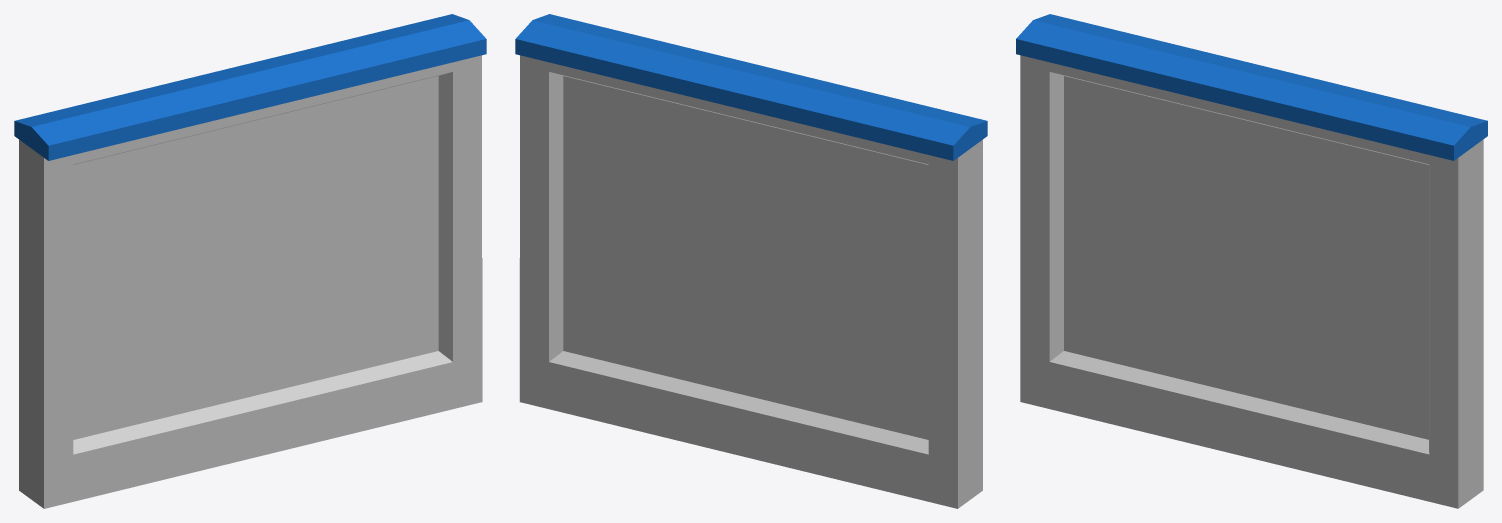
The model's file is SM_fence_2.fbx.
3 renders of one model, left to right at view 1: azimuth 30°, elevation 25°; view 2: azimuth 150°, elevation 25°; view 3: azimuth 330°, elevation 25°, orthographic.
Visible parts, largest first — view 1: Cloner_1; view 2: Cloner_1; view 3: Cloner_1.
Boxes of the visible parts, x1=… form: Cloner_1: x1=14, y1=14, x2=486, y2=508; Cloner_1: x1=515, y1=14, x2=987, y2=508; Cloner_1: x1=1016, y1=14, x2=1487, y2=508.
Bounding box in the file's own units: 300 × 244 × 40.4.
